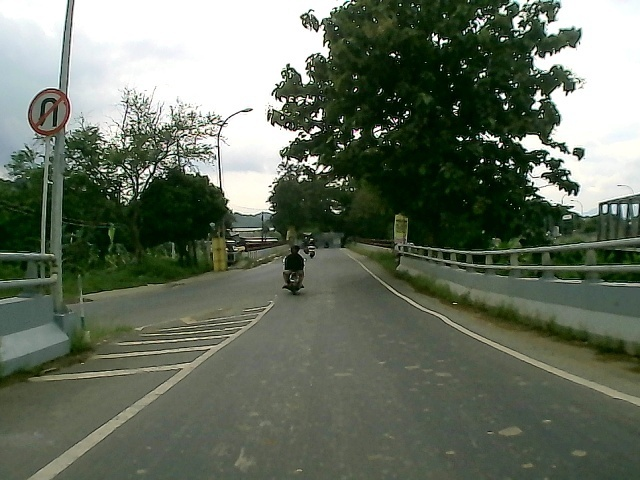Dilarang berbalik arah: (24, 86, 71, 139)
